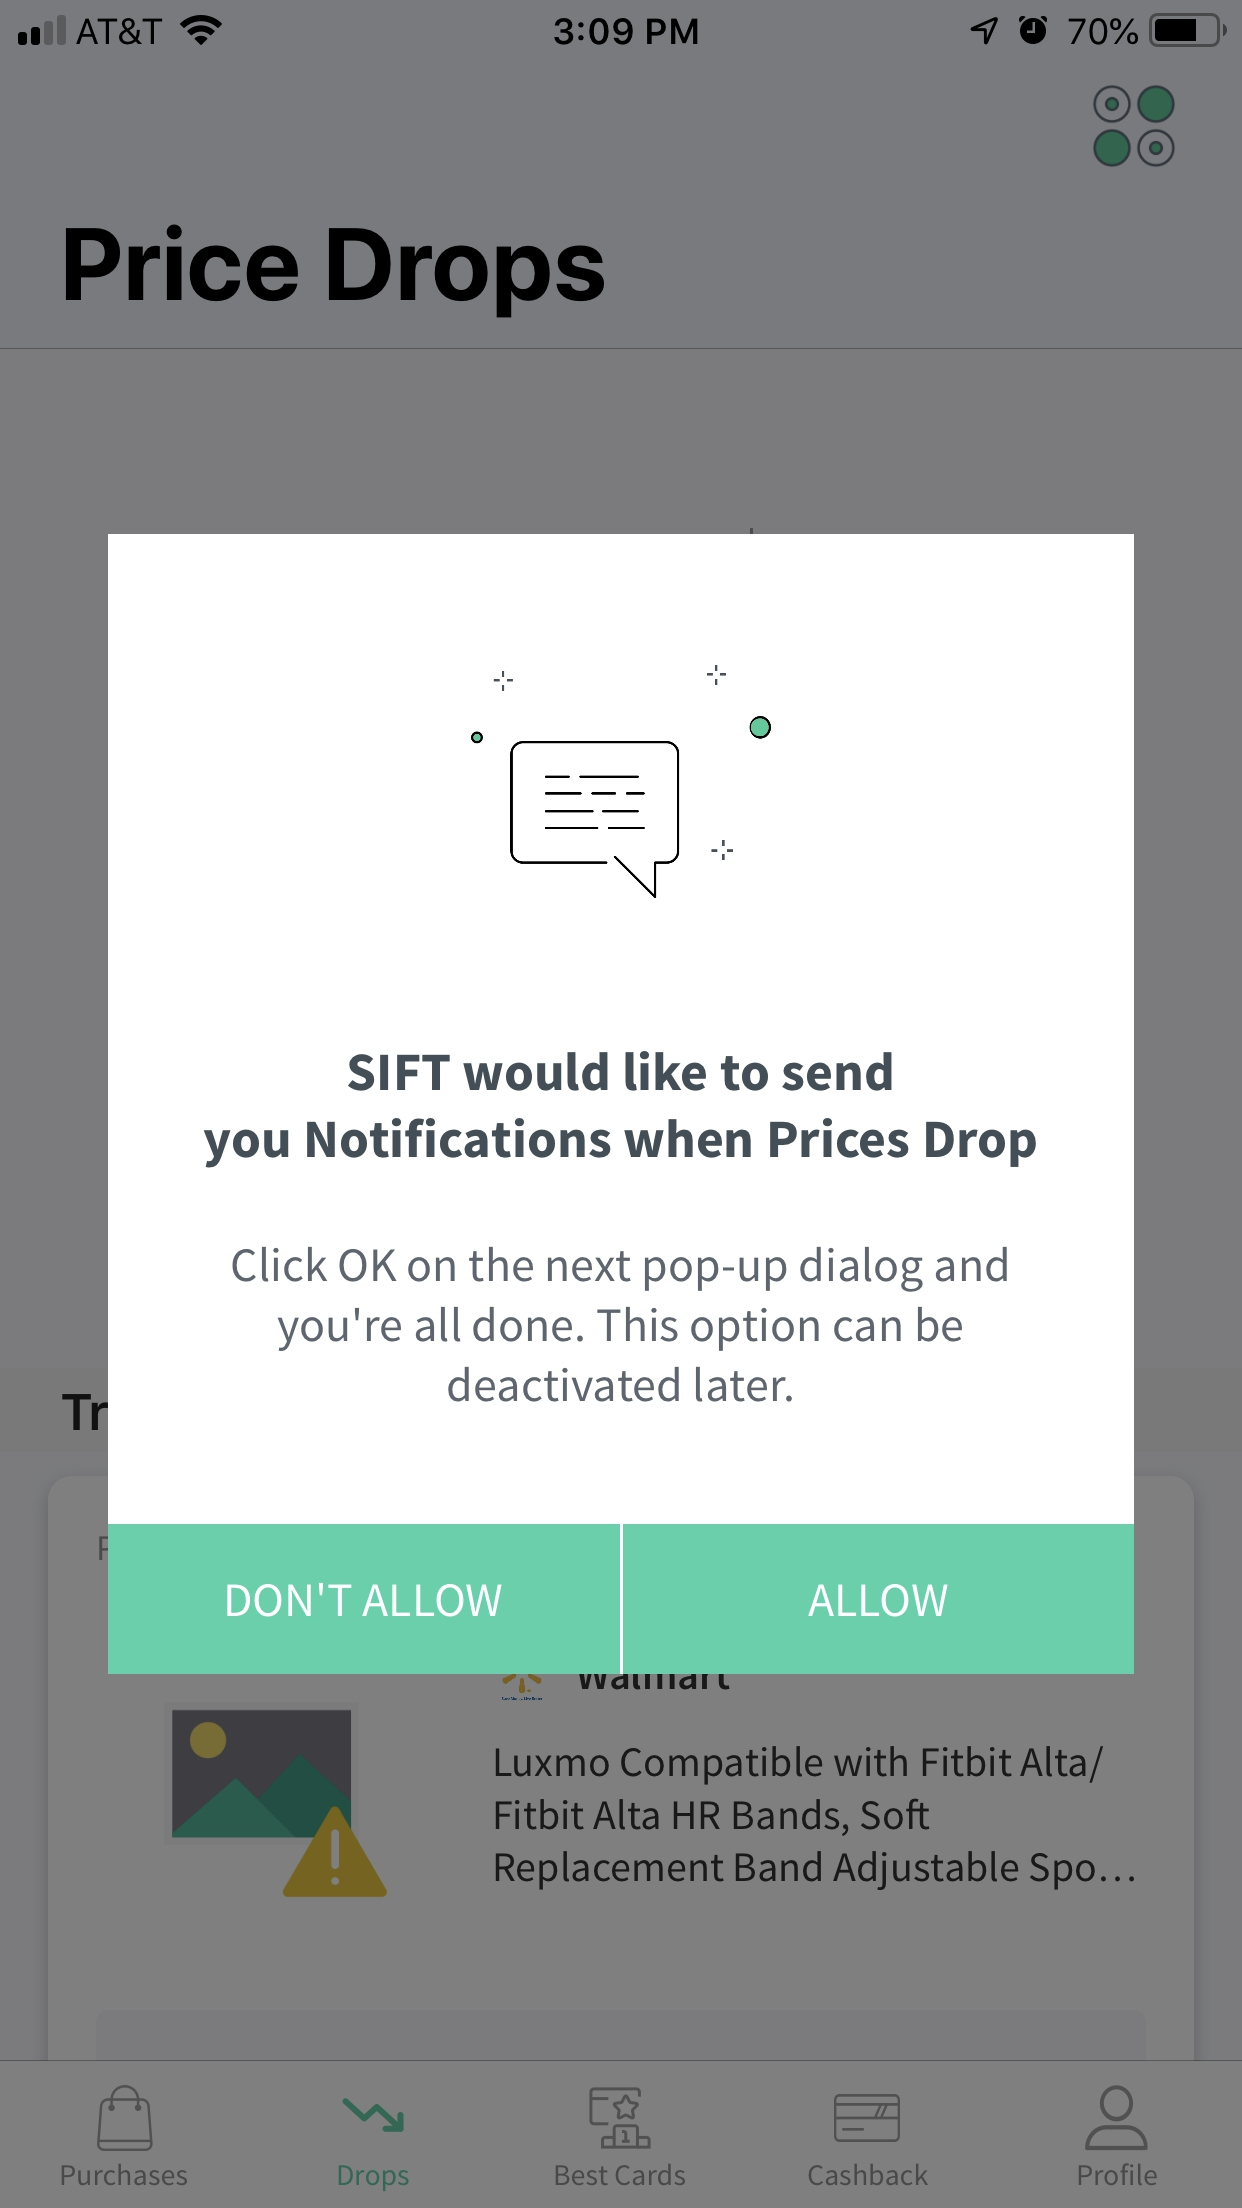Image: (470, 664, 773, 899)
Modal: (108, 534, 1134, 1674)
Text: (231, 1247, 1008, 1403), (203, 1051, 1037, 1169)
TextButton: (109, 1526, 622, 1676), (623, 1524, 1134, 1674)
UpperTaskBar: (2, 2, 1242, 49)
